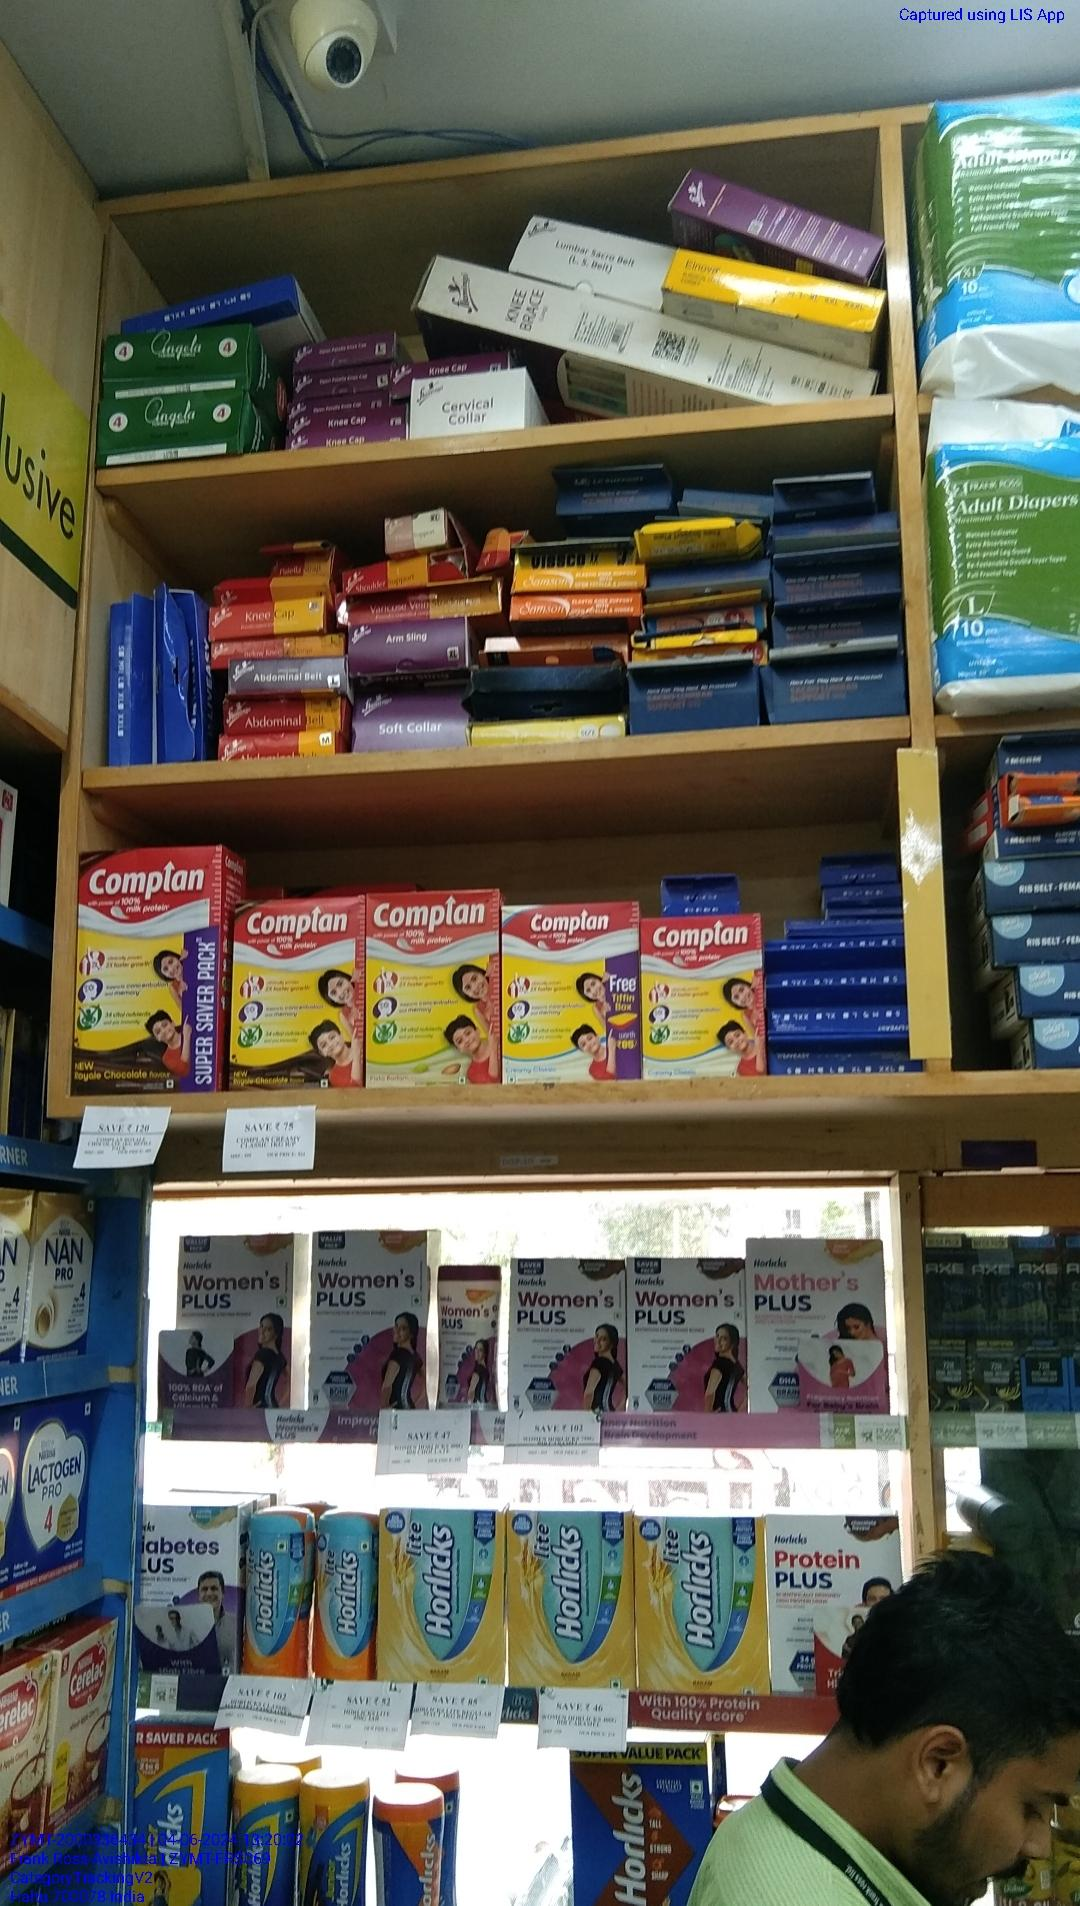COMPLAN_CHOCOLATE_1_KG_PACK: (73, 850, 217, 1094)
COMPLAN_CHOCOLATE_500_GMS_PACK: (229, 902, 363, 1089)
COMPLAN_CREAMY_CLASSIC_500_G_PACK: (503, 903, 639, 1079), (644, 915, 762, 1077)
COMPLAN_PISTA_BADAM_500_GMS_PACK: (367, 894, 496, 1089)
HORLICKS_LITE_REGULAR_MALT_500_GM_JAR: (246, 1511, 308, 1676), (317, 1508, 373, 1678)
HORLICK_CHOCOLATE_1_KG_PACK: (571, 1740, 694, 1906)
HORLICK_CLASSIC_MALT_200_G_JAR: (373, 1797, 442, 1906)
